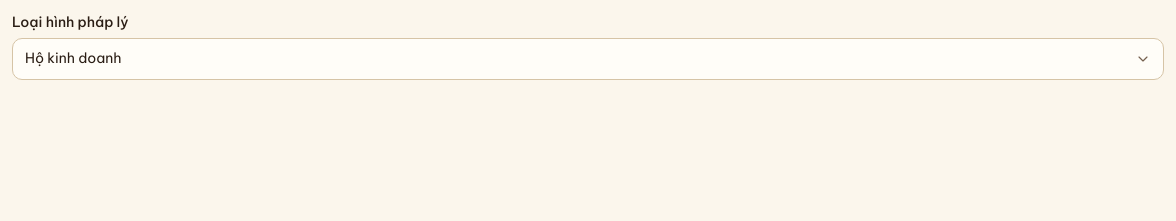
Scenario: Shared UI - Select (listbox tự dựng) › mở listbox khi bấm và hiển thị đầy đủ option
Click the dropdown at (73, 58), box [13,48,1163,70]
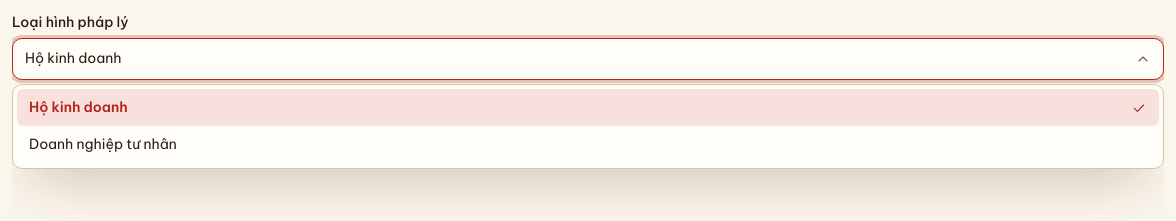
Check: the list is shown, box [12,84,1164,169]
Check: the number of options is 2, box [17,89,1159,126]; [29,135,177,153]
Check: the dropdown is expanded, box [13,48,1163,70]
